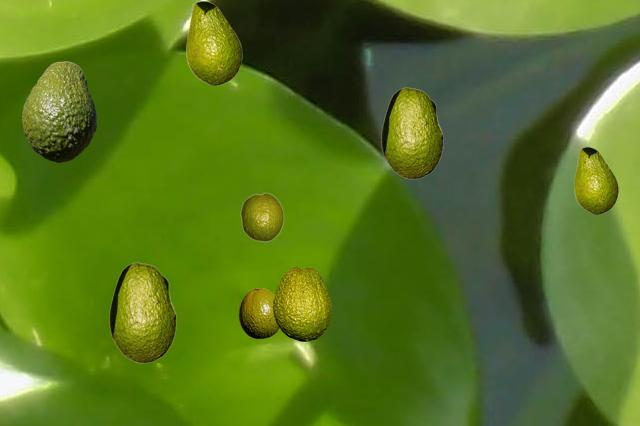avocado: (22, 61, 95, 161), (109, 262, 175, 362), (381, 87, 442, 178), (186, 1, 241, 84), (273, 266, 330, 340), (574, 147, 617, 213), (240, 192, 283, 241), (239, 288, 279, 337)
